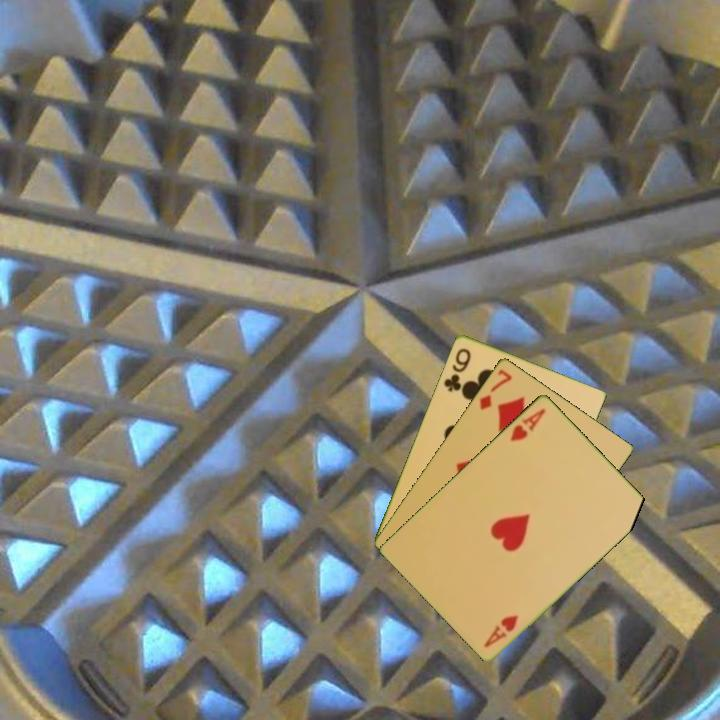7d: (476, 365, 515, 412)
9c: (440, 344, 474, 394)
Ah: (506, 404, 549, 444), (481, 610, 522, 650)
